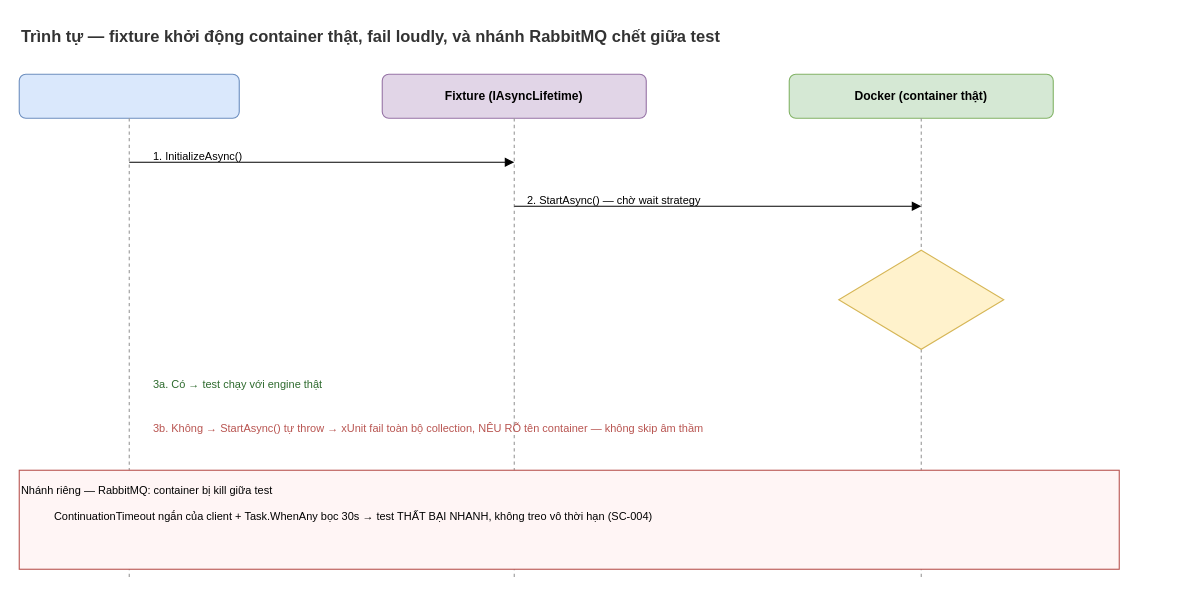
Some shapes in this 1194 by 601 pixel diagram are drawn without their labels. The shapes that lost their labels are listed below. From the top down, each one's centre as x and y in pixels, then its label:
pixel 128 95: Test suite (xUnit)
pixel 921 299: Khoẻ mạnh trong thời gian chờ?
